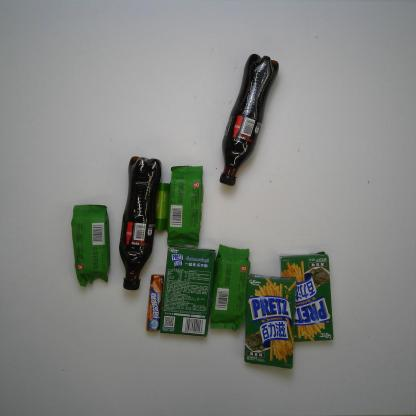Candy: (145, 273, 165, 333)
Dessert: (158, 245, 217, 337), (244, 273, 298, 371), (279, 251, 335, 343), (208, 243, 251, 332), (70, 204, 112, 288), (166, 164, 204, 247)
Drink: (218, 53, 279, 187), (118, 155, 163, 292)
Stationery: (154, 182, 170, 232)
